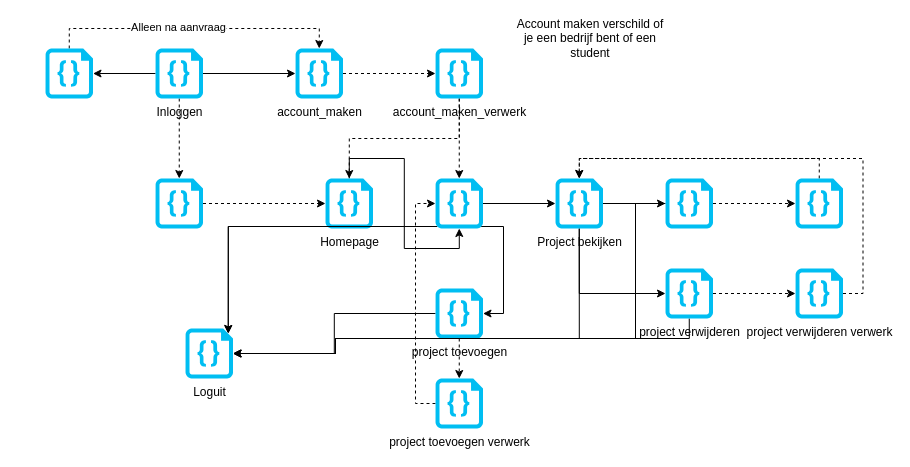
Some shapes in this 910 by 467 pixel diagram are drawn without their labels. Here are the shapes that lost their labels. From the top down, the centre of each, then its label:
At (68,73): "account_aanvragen".
At (178,203): "inlog_verwerk".
At (458,203): "Student_page".
At (688,203): "project aanpassen".
At (818,203): "project aanpassen verwerk".
